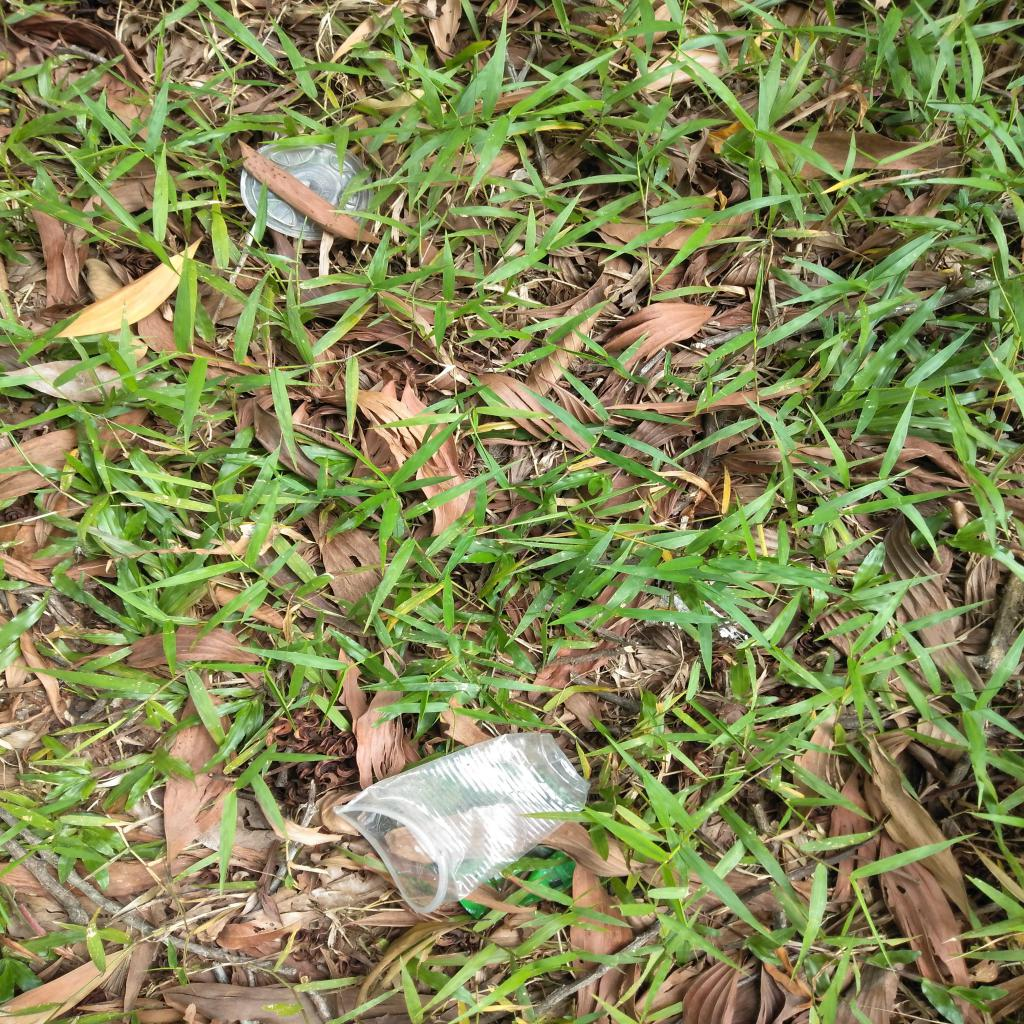Disposable plastic cup: (332, 732, 592, 914)
Other plastic: (459, 861, 577, 919)
Plastic lid: (241, 144, 373, 240)
